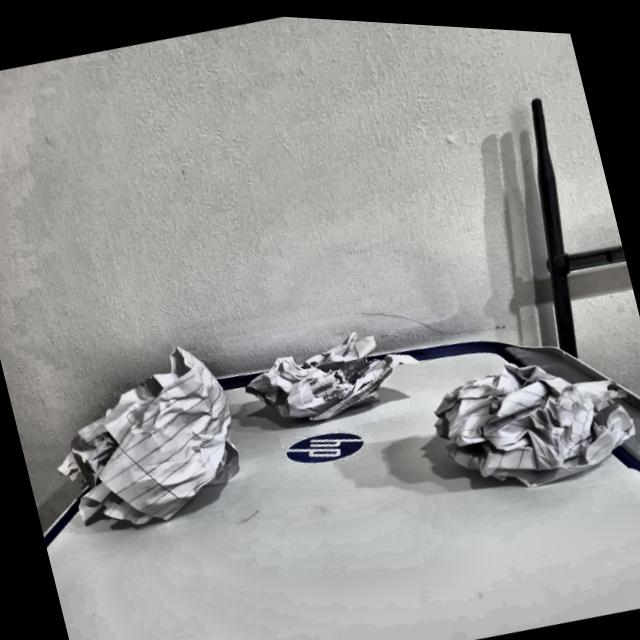Paper: (428, 323, 640, 505), (62, 337, 256, 528), (240, 310, 413, 435)
